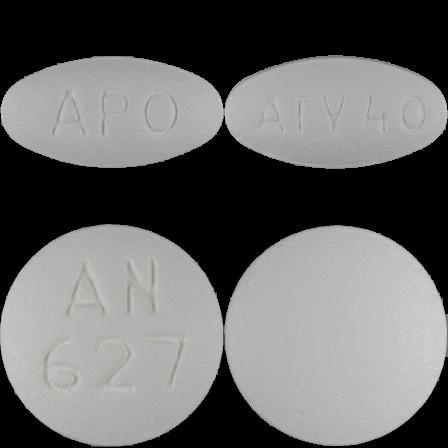63629-4865: (0, 0, 224, 224)
